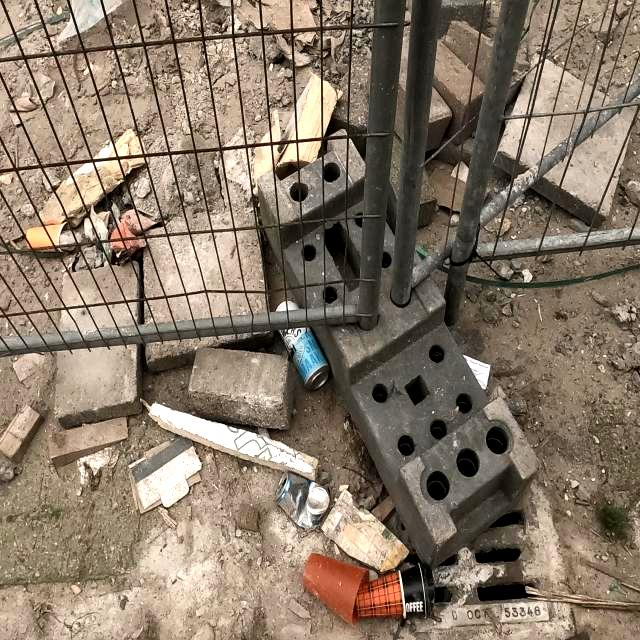Coffee Cup: (360, 562, 436, 624), (305, 560, 373, 618), (23, 220, 79, 254)
Metal: (274, 476, 332, 528), (285, 324, 325, 382)
